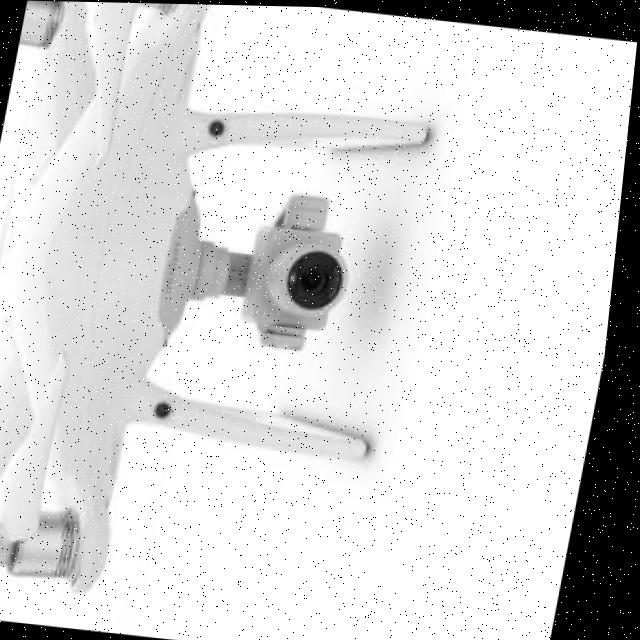drones: (0, 0, 524, 633)
